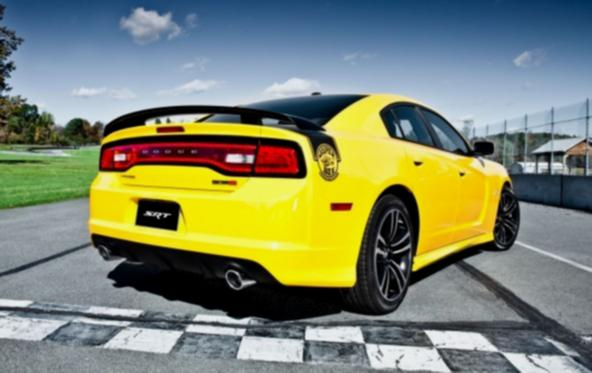dodge: (137, 144, 202, 161)
